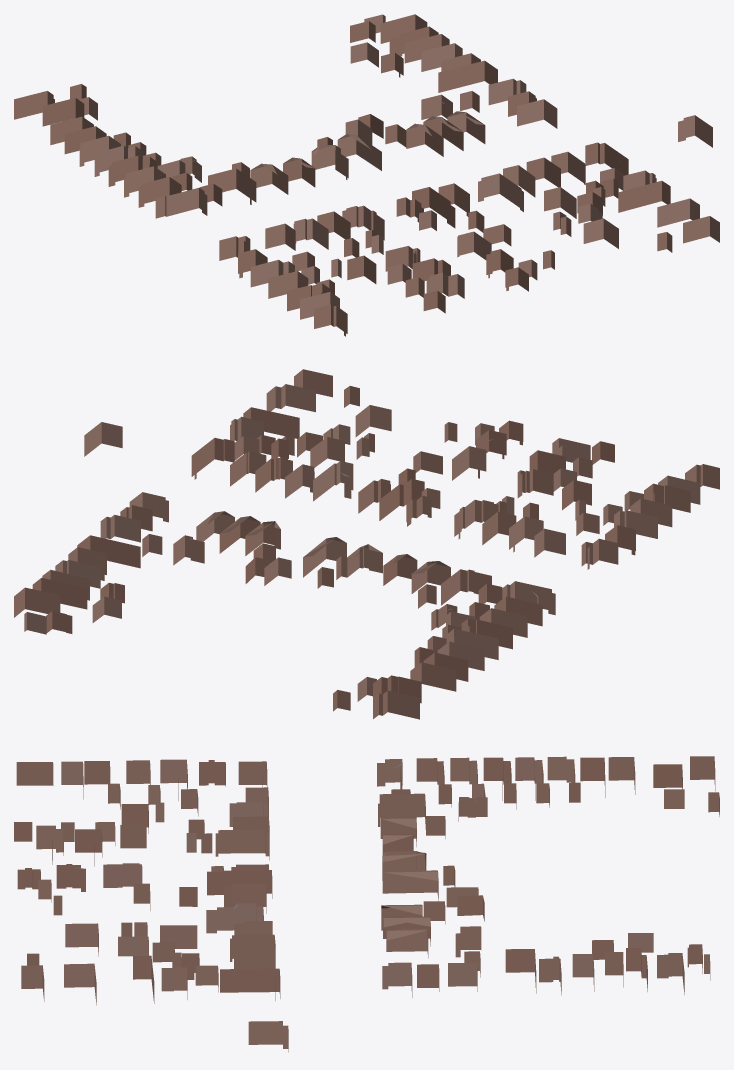
The model's file is c_1640_17829_buildings_residential.glb.
3 renders of one model, top to bottom at view 1: azimuth 30°, elevation 25°; view 2: azimuth 150°, elevation 25°; view 3: azimuth 270°, elevation 25°, orthographic. The views are drawn at different scales.
Visible parts, largest first — view 1: geometry_0; view 2: geometry_0; view 3: geometry_0.
Part boxes in pixels (box(x1,y1,x2,y2)): geometry_0: box(14, 14, 719, 336); geometry_0: box(14, 369, 719, 719); geometry_0: box(14, 756, 719, 1052).
Bounding box in the file's own units: 240 × 10.68 × 259.
